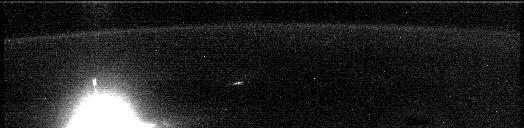positive: (85, 72, 100, 94)
